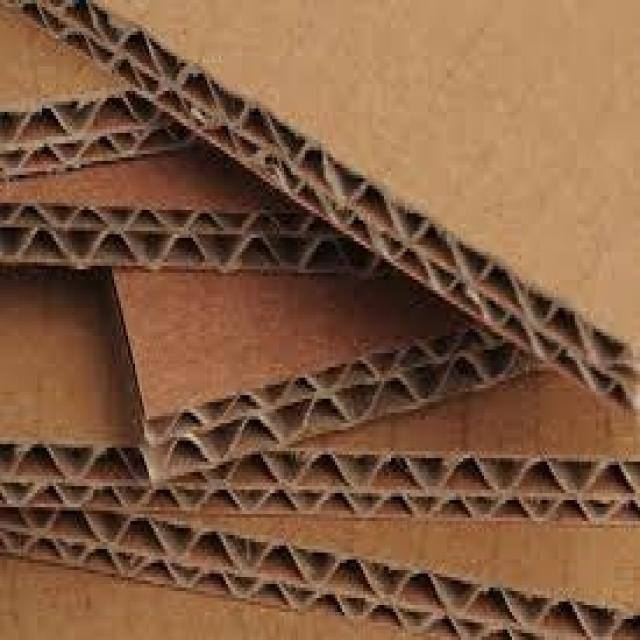cardboard paper: (96, 0, 639, 369), (115, 270, 462, 415), (190, 516, 639, 608), (0, 559, 420, 639), (296, 370, 639, 456), (0, 271, 137, 441), (2, 146, 280, 210), (0, 14, 114, 108)
